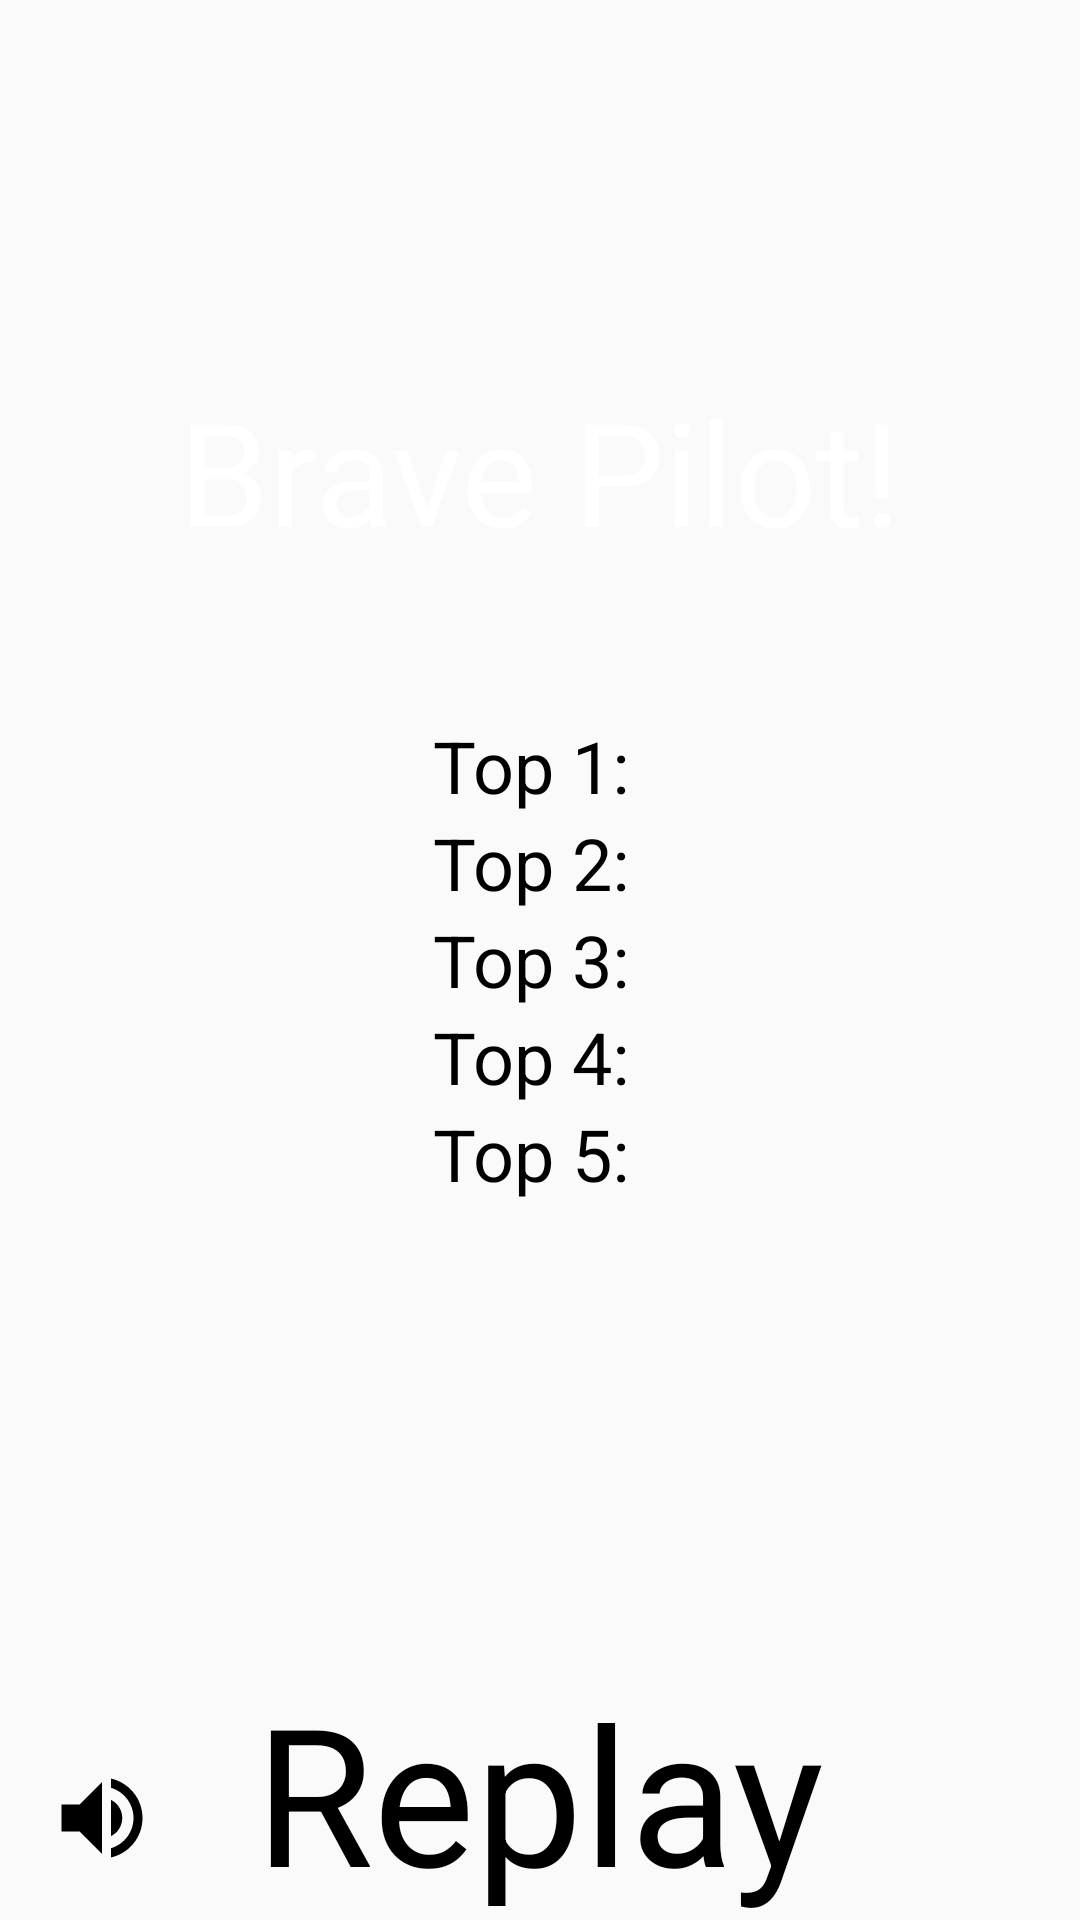

Named icons in this screenshot (1080px x 1920px) and their bounding boxes, (x1=x1, y1=y1, x2=x2, y2=y2):
volume up: (x1=61, y1=1778, x2=143, y2=1858)
